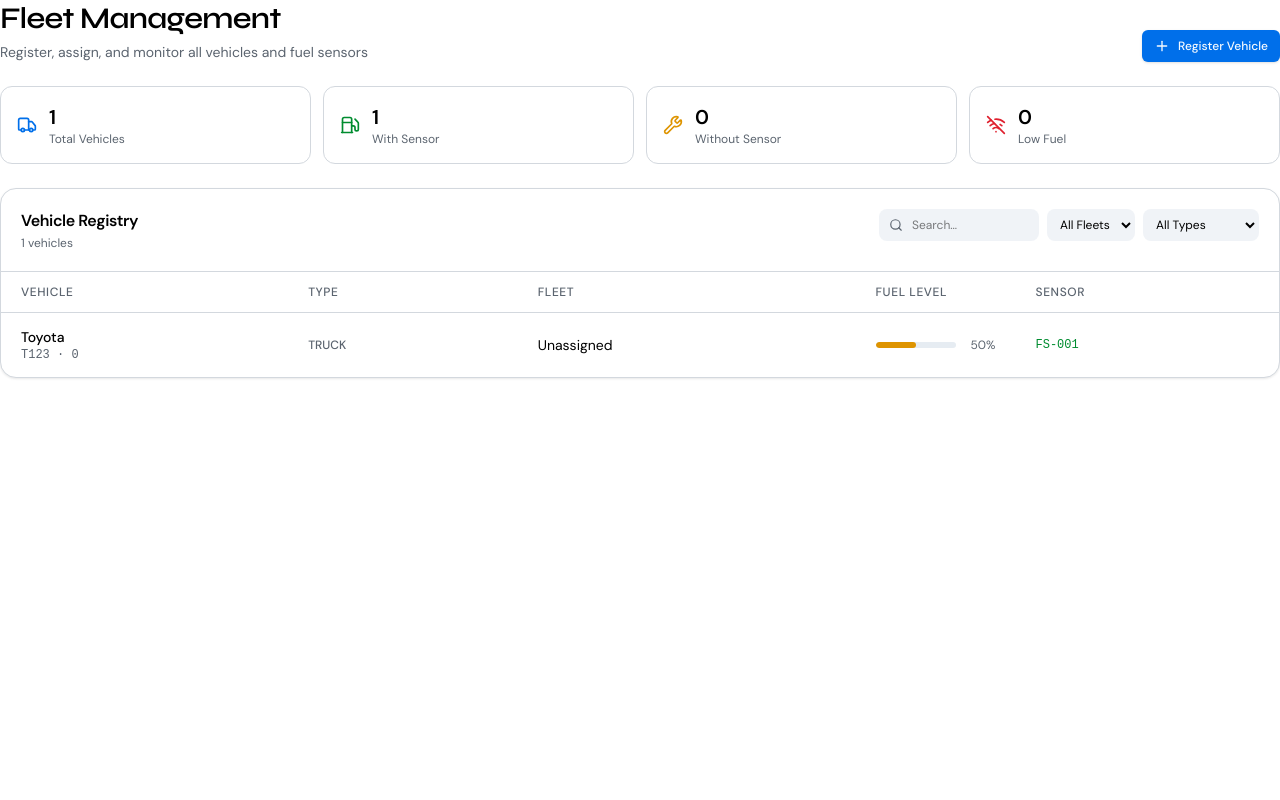
Test case: Fleet Component › should open View Telemetry dialog
The image size is (1280, 800).
Check: the text "T123 · 0" is shown, box [21,348,79,362]
// Open row
Click the text "Toyota".
click(43, 337)  # box [21,328,64,346]
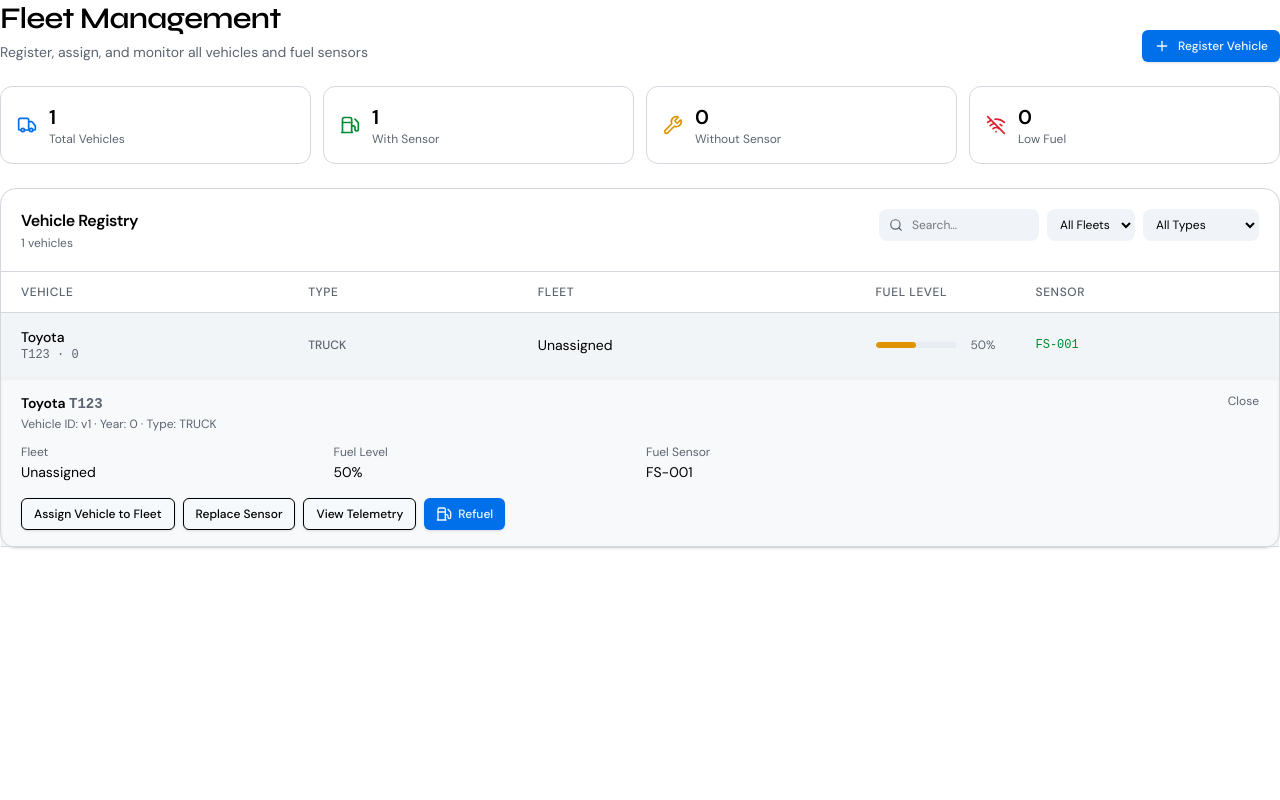
Check: the button "View Telemetry" is enabled
Click the button "View Telemetry".
click(360, 514)  # box [304,498,416,530]
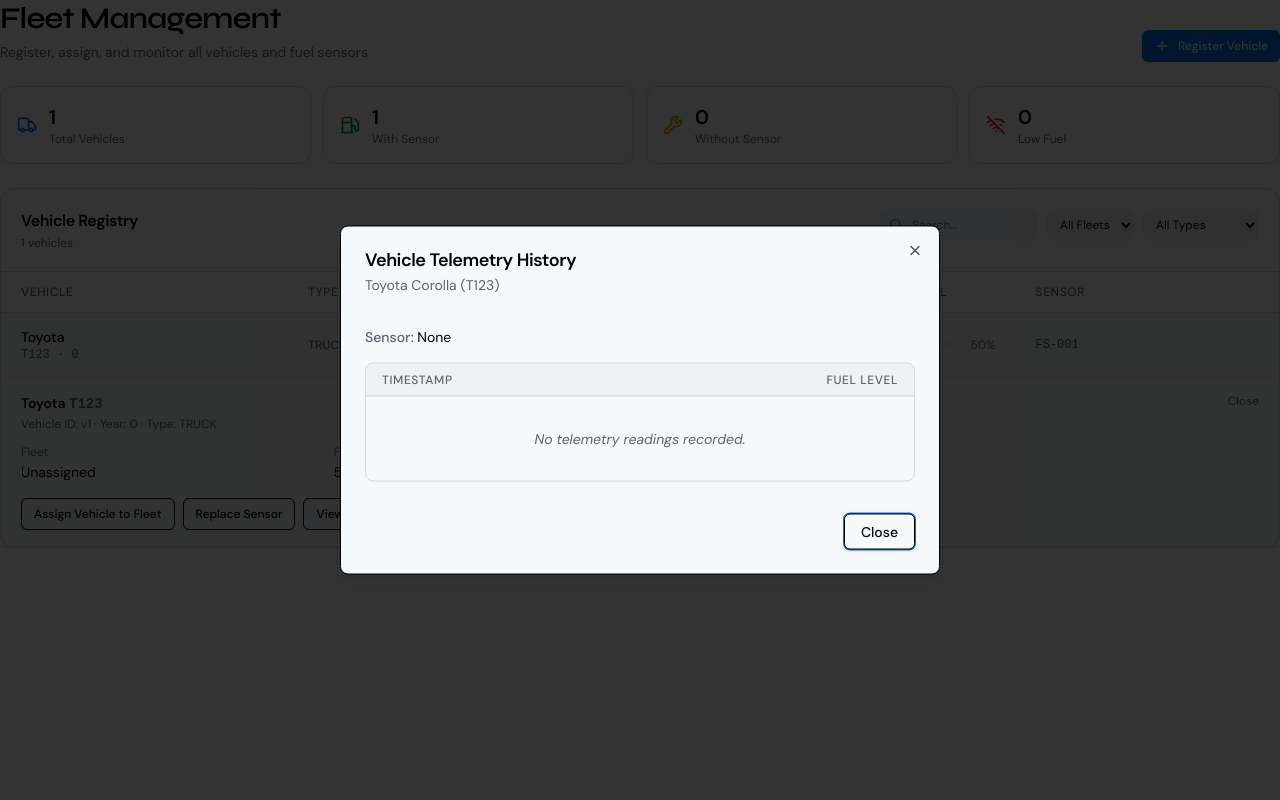
Check: the heading "Vehicle Telemetry History" is shown, box [365,248,576,272]
